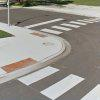Crosswalk: (32, 12, 99, 38)
